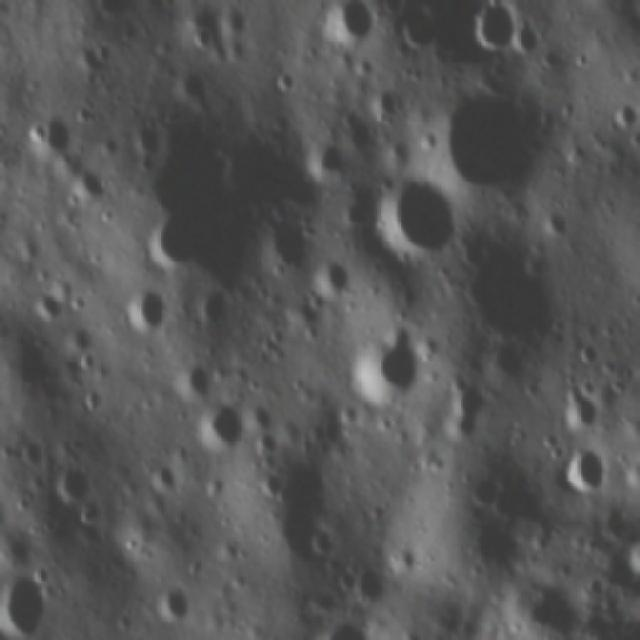crater: (134, 137, 314, 286), (424, 84, 562, 198), (441, 235, 559, 354), (367, 172, 470, 266), (342, 328, 424, 412), (0, 559, 55, 635), (193, 398, 252, 460), (122, 284, 180, 344), (143, 214, 200, 275), (558, 444, 610, 505), (468, 0, 522, 57), (315, 0, 373, 51), (436, 374, 481, 435), (394, 3, 441, 60), (560, 380, 608, 432), (31, 112, 80, 162), (52, 460, 99, 511), (334, 186, 386, 232), (29, 276, 74, 329), (166, 56, 208, 109), (336, 101, 375, 157), (64, 166, 110, 212), (171, 352, 215, 400), (302, 134, 347, 180), (122, 119, 166, 164), (147, 584, 196, 624), (355, 562, 394, 606), (302, 520, 338, 565), (308, 254, 354, 289), (146, 462, 186, 502), (196, 282, 235, 322), (510, 16, 542, 62), (90, 0, 141, 26), (370, 85, 404, 120), (62, 321, 98, 353), (249, 428, 285, 459), (261, 464, 290, 502), (569, 0, 640, 15), (611, 97, 640, 132), (574, 328, 601, 362), (74, 343, 101, 372), (272, 66, 299, 94), (379, 0, 402, 18), (0, 570, 6, 621)
